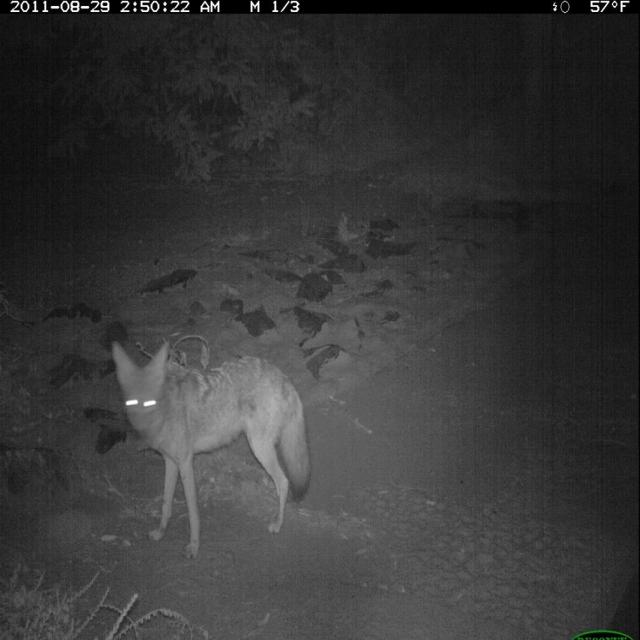coyote: (106, 328, 321, 569)
